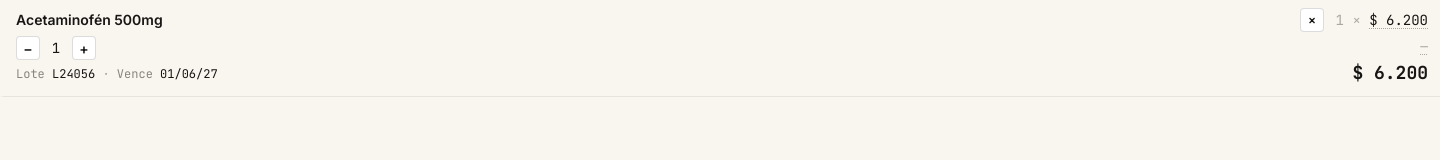
Test case: CartLineItem › mouse-only editing › opens the discount editor when the discount term is clicked
The width and height of the screenshot is (1440, 160).
Click the button named "Editar descuento": click(1424, 47) 1420,36 -> 1428,58
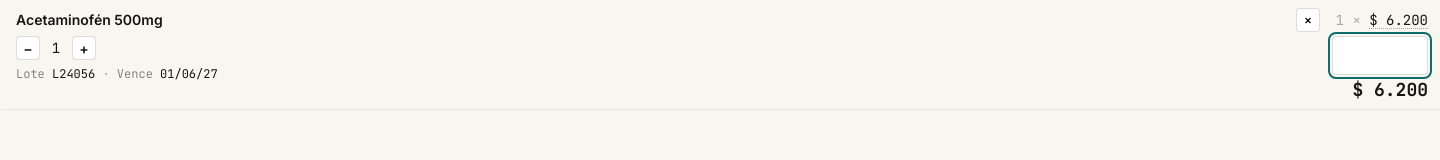
Now the number field named "Editar descuento" is shown, box 1332,36 -> 1428,75
